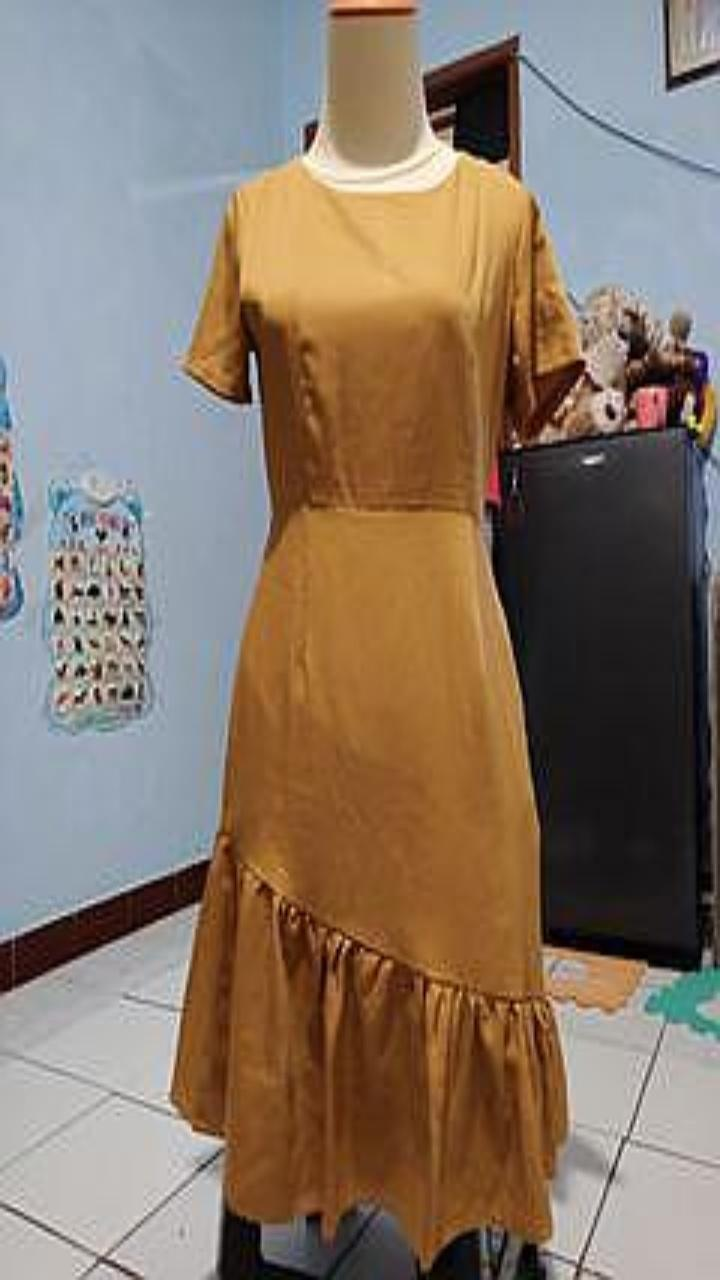Dresses: (172, 154, 580, 1264)
